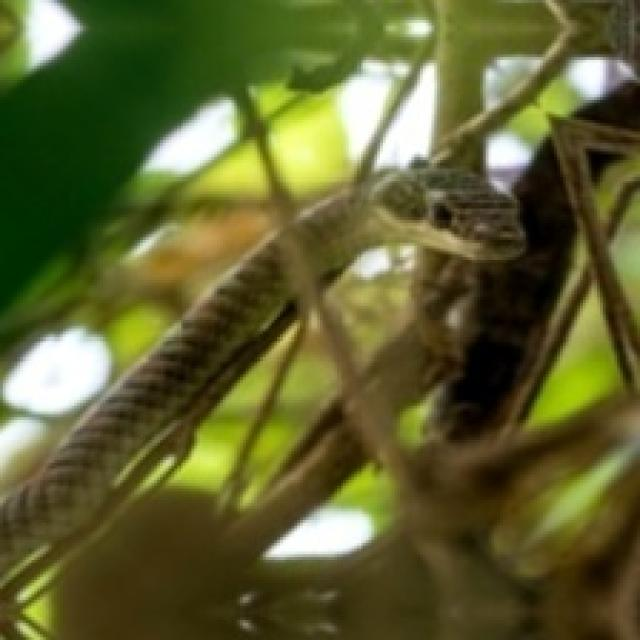paradise tree snake: (0, 189, 374, 637)
